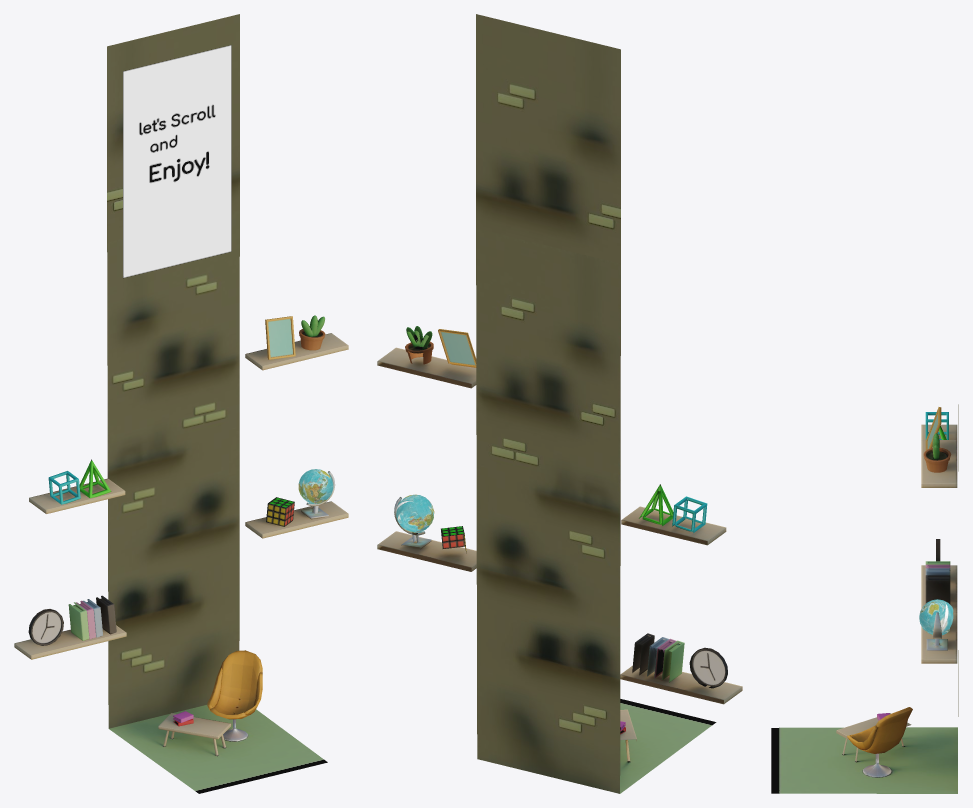
3 renders of one model, left to right at view 1: azimuth 30°, elevation 25°; view 2: azimuth 150°, elevation 25°; view 3: azimuth 270°, elevation 25°, orthographic. The views are drawn at different scales.
Parts seen in each view (by area): view 1: lantai.lowpoly, pembukaan.lowpoly, kursi.lowpoly, rak3.lowpoly, rak4.lowpoly, rak1.lowpoly, globe.005, rak2.lowpoly, meja.lowpoly, foto.lowpoly, jam.lowpoly, pot.lowpoly (+3 smaller); view 2: lantai.lowpoly, rak1.lowpoly, rak3.lowpoly, rak4.lowpoly, rak2.lowpoly, globe.005, jam.lowpoly, foto.lowpoly, pot.lowpoly, buku1.lowpoly, kubus.lowpoly; view 3: lantai.lowpoly, kursi.lowpoly, globe.005, rak1.lowpoly, rak3.lowpoly, buku4.lowpoly, pot.lowpoly, rak4.lowpoly, meja.lowpoly.
Part boxes in pixels (bbox=[...]): lantai.lowpoly: bbox=[107, 14, 327, 793]; pembukaan.lowpoly: bbox=[123, 45, 231, 278]; kursi.lowpoly: bbox=[207, 650, 262, 741]; rak3.lowpoly: bbox=[245, 501, 348, 538]; rak4.lowpoly: bbox=[14, 625, 126, 659]; rak1.lowpoly: bbox=[245, 333, 348, 370]; globe.005: bbox=[298, 469, 335, 519]; rak2.lowpoly: bbox=[29, 478, 125, 513]; meja.lowpoly: bbox=[158, 713, 231, 756]; foto.lowpoly: bbox=[265, 316, 295, 359]; jam.lowpoly: bbox=[28, 609, 63, 645]; pot.lowpoly: bbox=[299, 315, 325, 350]; lantai.lowpoly: bbox=[476, 14, 716, 793]; rak1.lowpoly: bbox=[377, 347, 476, 388]; rak3.lowpoly: bbox=[377, 531, 476, 571]; rak4.lowpoly: bbox=[620, 665, 742, 704]; rak2.lowpoly: bbox=[621, 506, 726, 545]; globe.005: bbox=[394, 494, 434, 549]; jam.lowpoly: bbox=[689, 647, 727, 688]; foto.lowpoly: bbox=[438, 329, 476, 367]; pot.lowpoly: bbox=[405, 326, 433, 364]; buku1.lowpoly: bbox=[662, 640, 684, 682]; kubus.lowpoly: bbox=[672, 496, 707, 532]; lantai.lowpoly: bbox=[771, 404, 958, 793]; kursi.lowpoly: bbox=[847, 707, 912, 777]; globe.005: bbox=[919, 599, 953, 650]; rak1.lowpoly: bbox=[921, 440, 957, 487]; rak3.lowpoly: bbox=[921, 615, 957, 663]; buku4.lowpoly: bbox=[925, 575, 950, 604]; pot.lowpoly: bbox=[923, 433, 951, 472]; rak4.lowpoly: bbox=[921, 565, 957, 615]; meja.lowpoly: bbox=[836, 713, 911, 762].
Size of what is drawn, in the model's own units: 2.77 by 5.7 by 1.36.
Materials: 4 (4 with a texture image).
